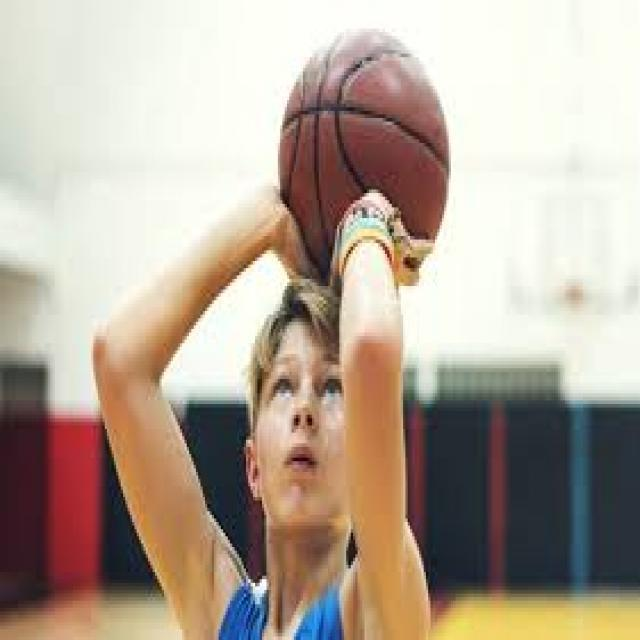rim: (276, 25, 452, 286)
